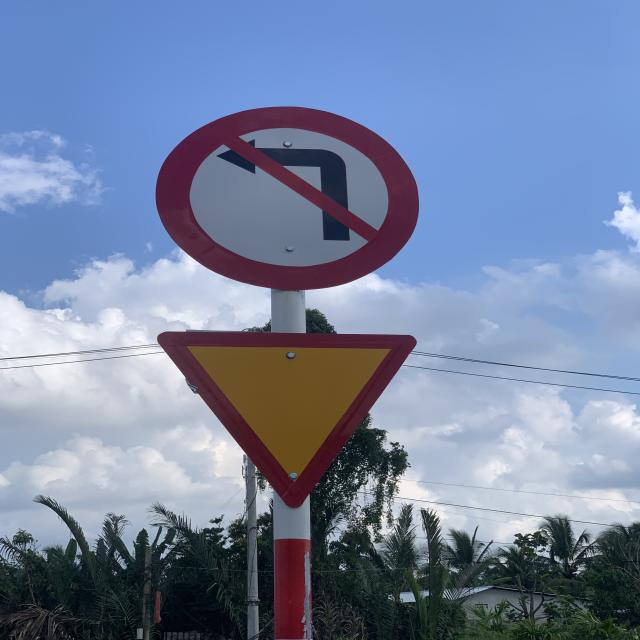Cam_Re_Trai: (157, 103, 424, 288)
Gioi_Han_Toc_Do_25: (155, 331, 412, 510)
